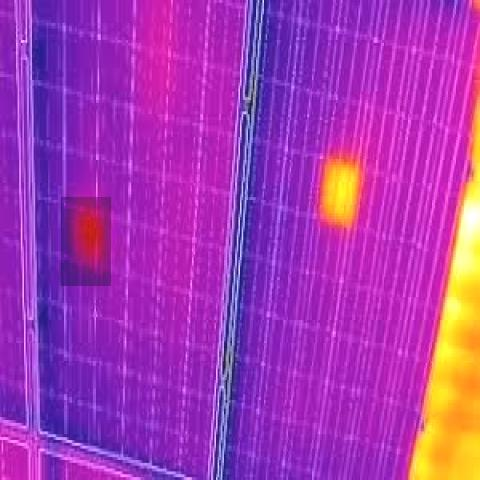fault: (308, 144, 371, 248), (61, 197, 111, 286)
